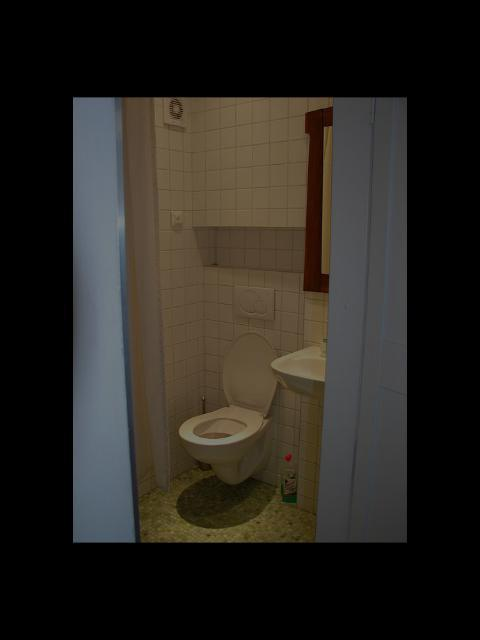Lavamanos: (269, 344, 360, 398)
Sanitario: (175, 330, 285, 487)
